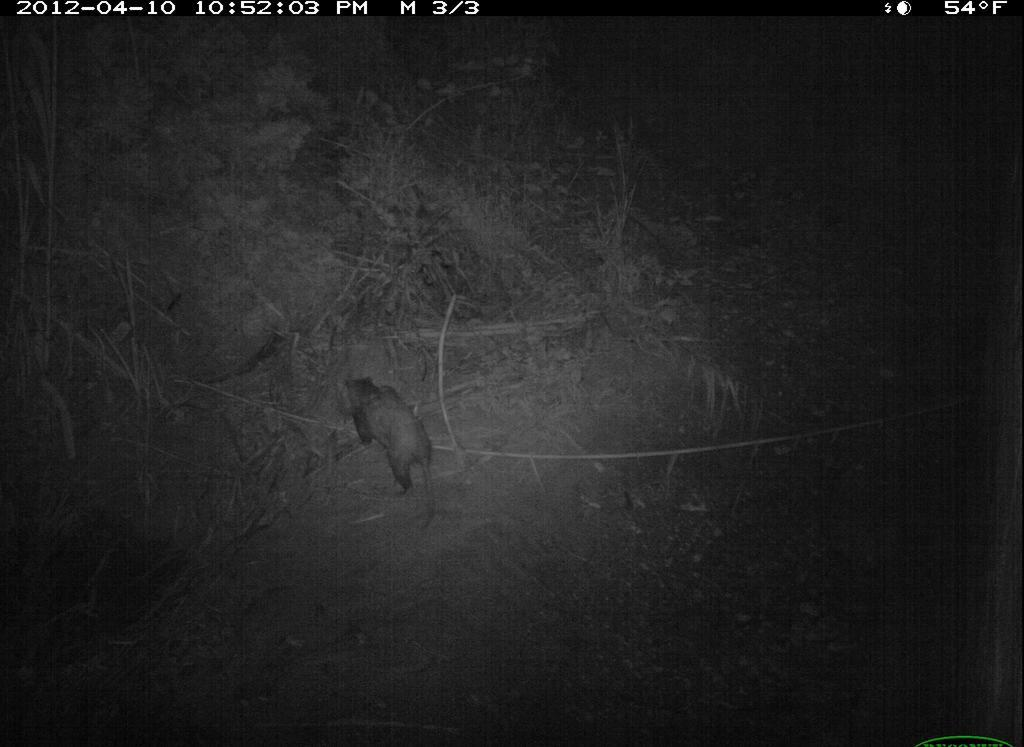opossum: (340, 368, 452, 532)
